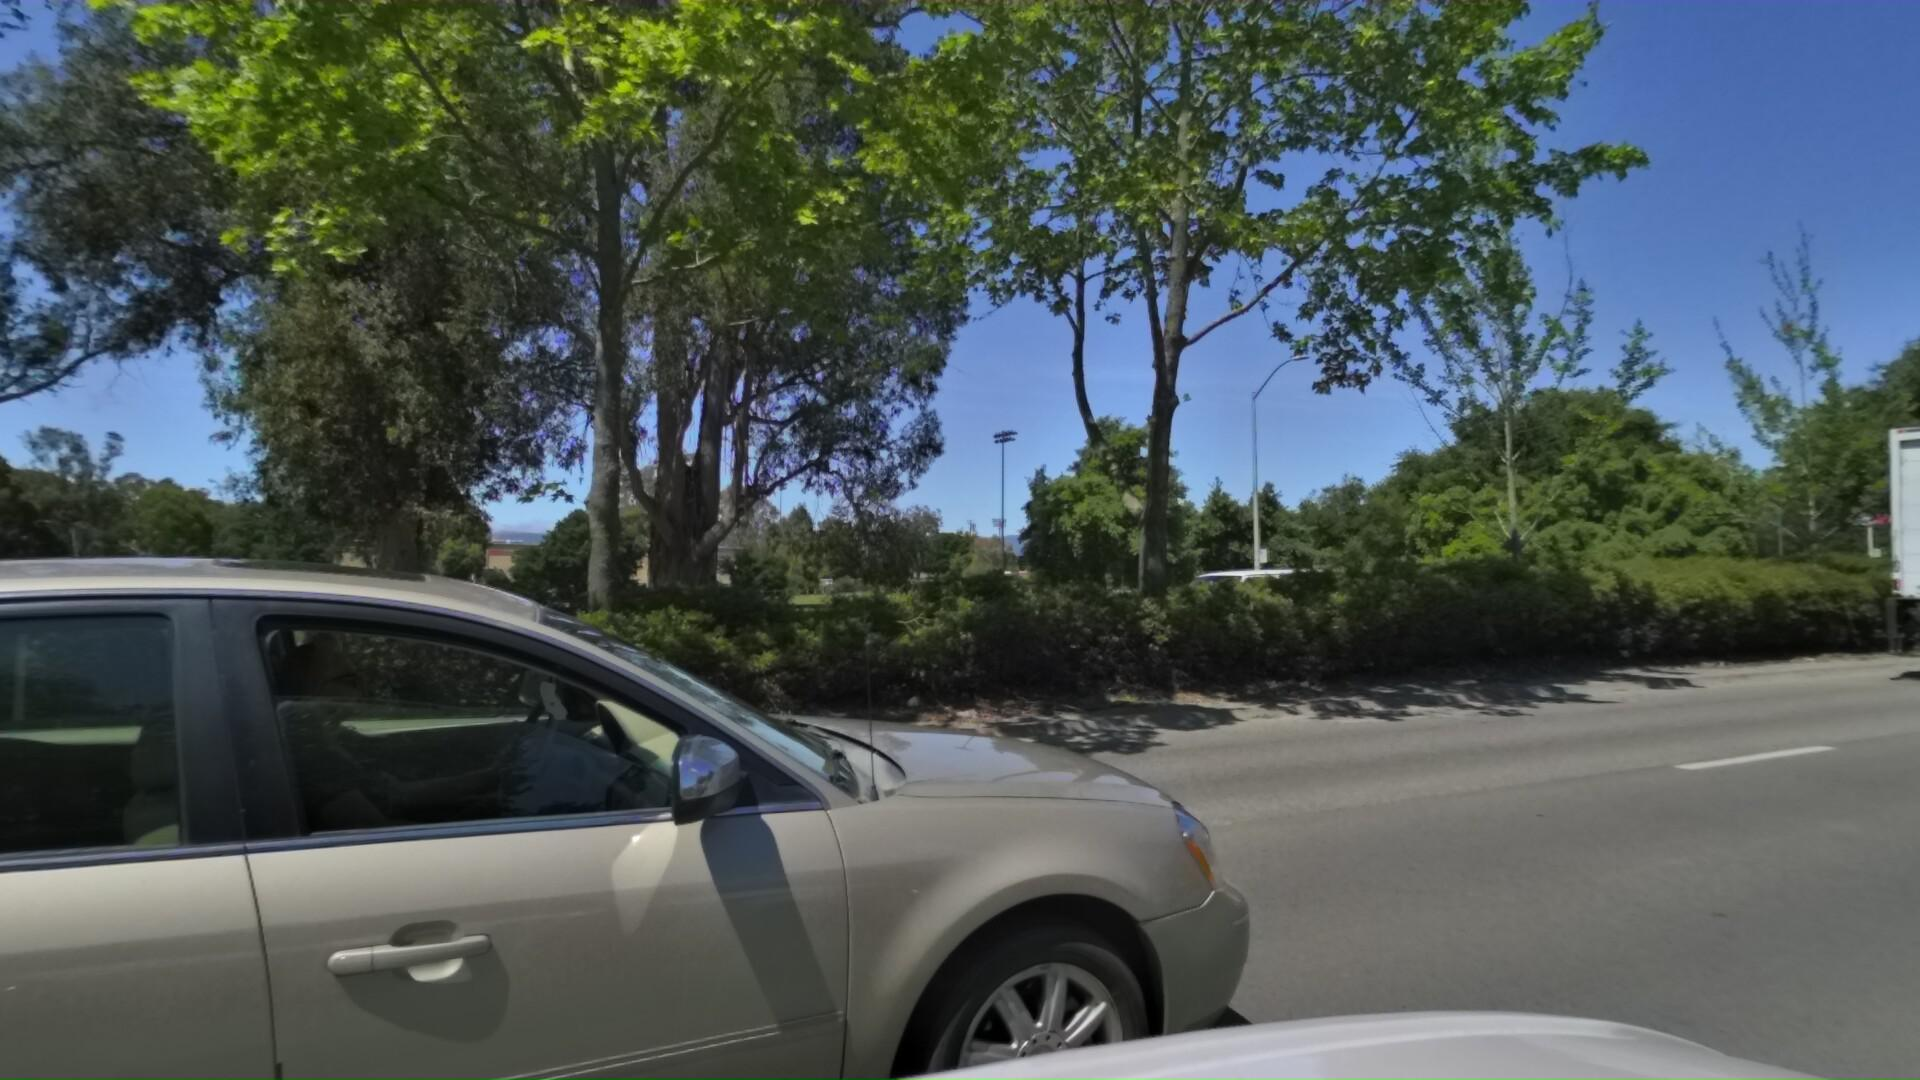car: (0, 241, 1403, 1080), (1127, 563, 1338, 641)
truck: (1853, 396, 1920, 702)
